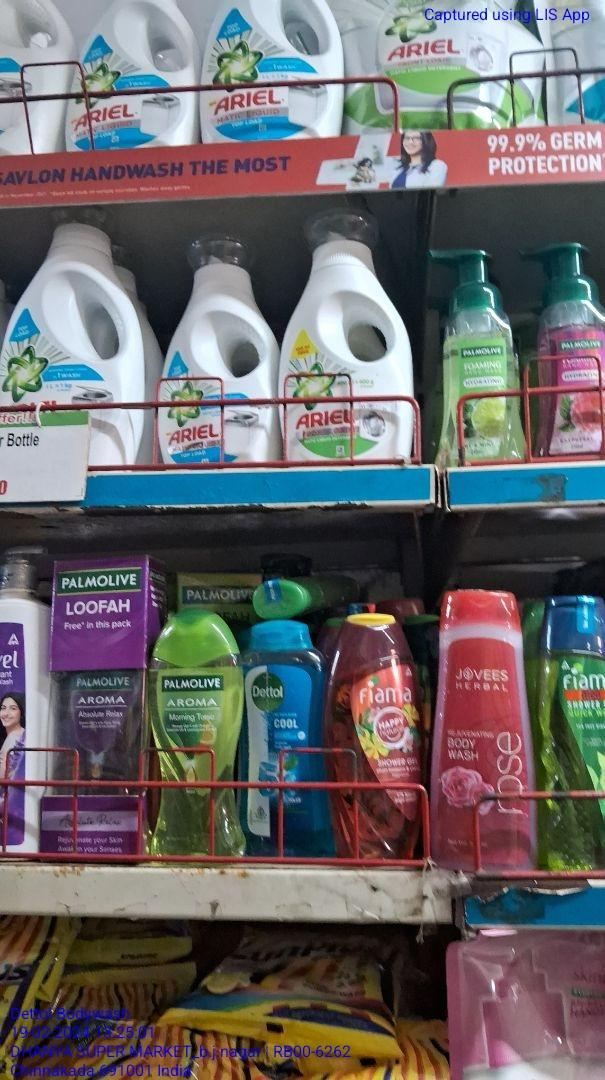Dettol_Bodywash_Cool: (248, 618, 324, 858)
Palmolive_Aroma_Morning_Tonic_Shower_Gel_250ML: (154, 612, 245, 863)
